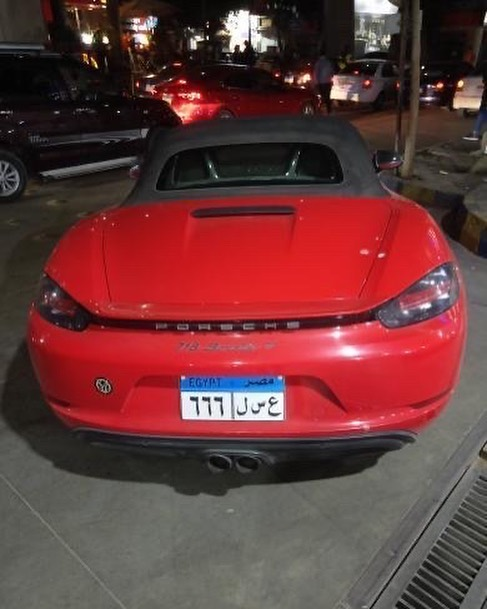carpl: (176, 373, 288, 422)
